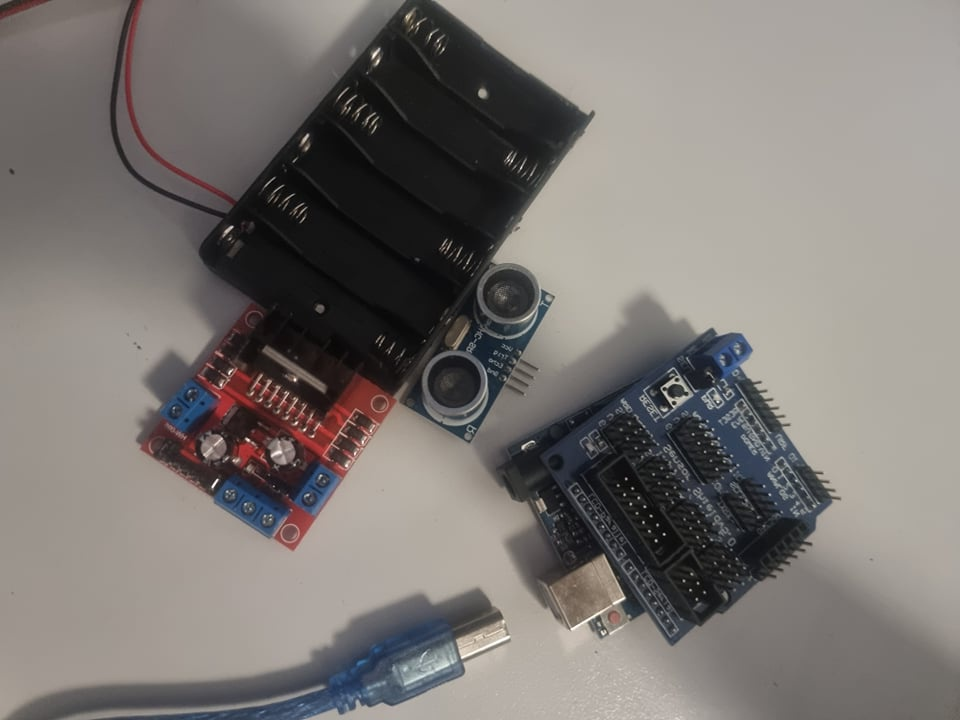5V EXPANSION: (620, 327, 845, 652)
BATTERY BOX: (192, 1, 593, 340)
MOTOR: (137, 297, 396, 558)
SENSOR: (406, 264, 554, 443)
UNO R3: (486, 445, 620, 690)
